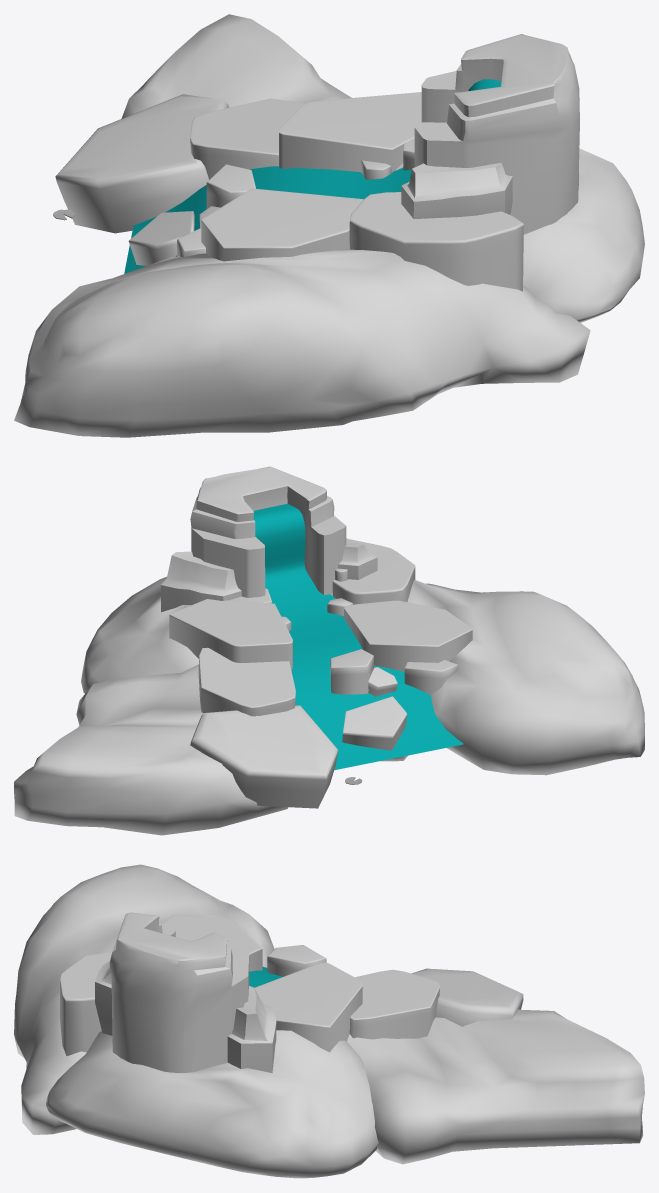
Rendered from cascada_monte_ynenufar.fbx.
3 renders of one model, top to bottom at view 1: azimuth 30°, elevation 25°; view 2: azimuth 150°, elevation 25°; view 3: azimuth 270°, elevation 25°, orthographic. The views are drawn at different scales.
Visible parts, largest first — view 1: montes_cascada_Mesh, polySurcascadaface334, agua_cascada; view 2: montes_cascada_Mesh, polySurcascadaface334, agua_cascada; view 3: montes_cascada_Mesh, polySurcascadaface334.
Boxes of the visible parts, x1=… form: montes_cascada_Mesh: x1=14, y1=14, x2=644, y2=437; polySurcascadaface334: x1=55, y1=34, x2=579, y2=291; agua_cascada: x1=124, y1=79, x2=501, y2=273; montes_cascada_Mesh: x1=14, y1=576, x2=644, y2=835; polySurcascadaface334: x1=161, y1=466, x2=472, y2=808; agua_cascada: x1=253, y1=503, x2=463, y2=770; montes_cascada_Mesh: x1=14, y1=864, x2=644, y2=1178; polySurcascadaface334: x1=60, y1=912, x2=523, y2=1073.
Size of the model in its own units: 37567 by 14149 by 37760.
